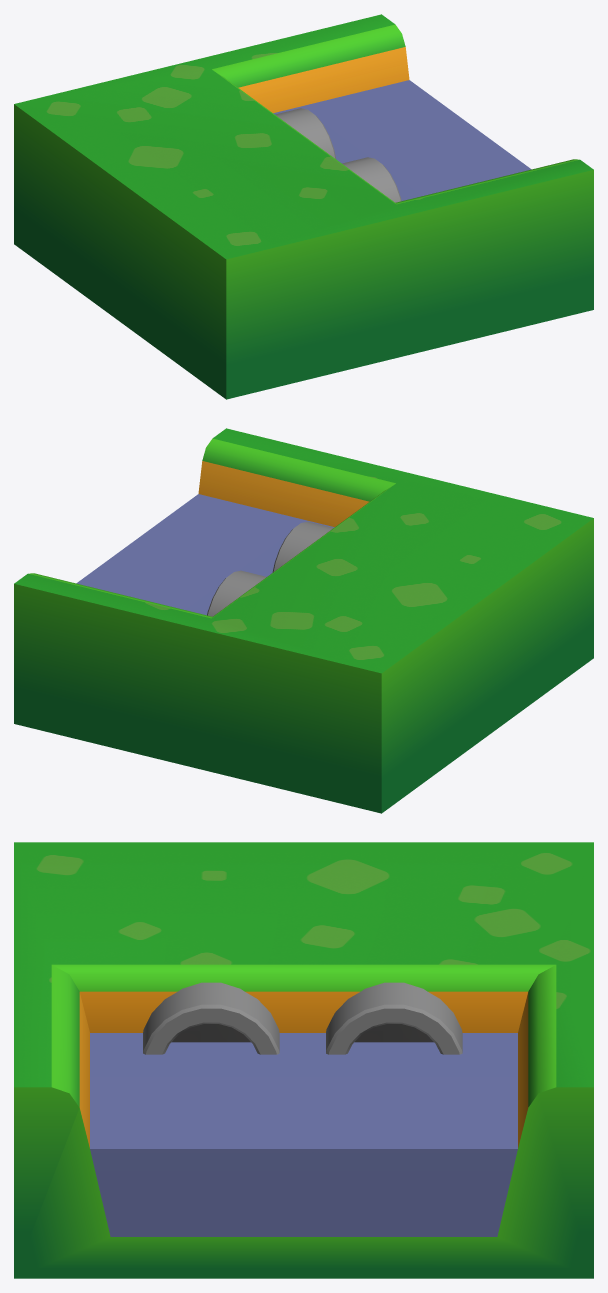
The model's file is RiverTile_4_2.fbx.
3 renders of one model, top to bottom at view 1: azimuth 30°, elevation 25°; view 2: azimuth 150°, elevation 25°; view 3: azimuth 270°, elevation 25°, orthographic. The views are drawn at different scales.
Visible parts, largest first — view 1: RiverTile_4_2; view 2: RiverTile_4_2; view 3: RiverTile_4_2.
Part boxes in pixels (left/top/right/bottom): RiverTile_4_2: left=14, top=14, right=593, bottom=399; RiverTile_4_2: left=14, top=428, right=593, bottom=813; RiverTile_4_2: left=14, top=842, right=593, bottom=1278.
Bounding box in the file's own units: 400 × 146 × 400.
